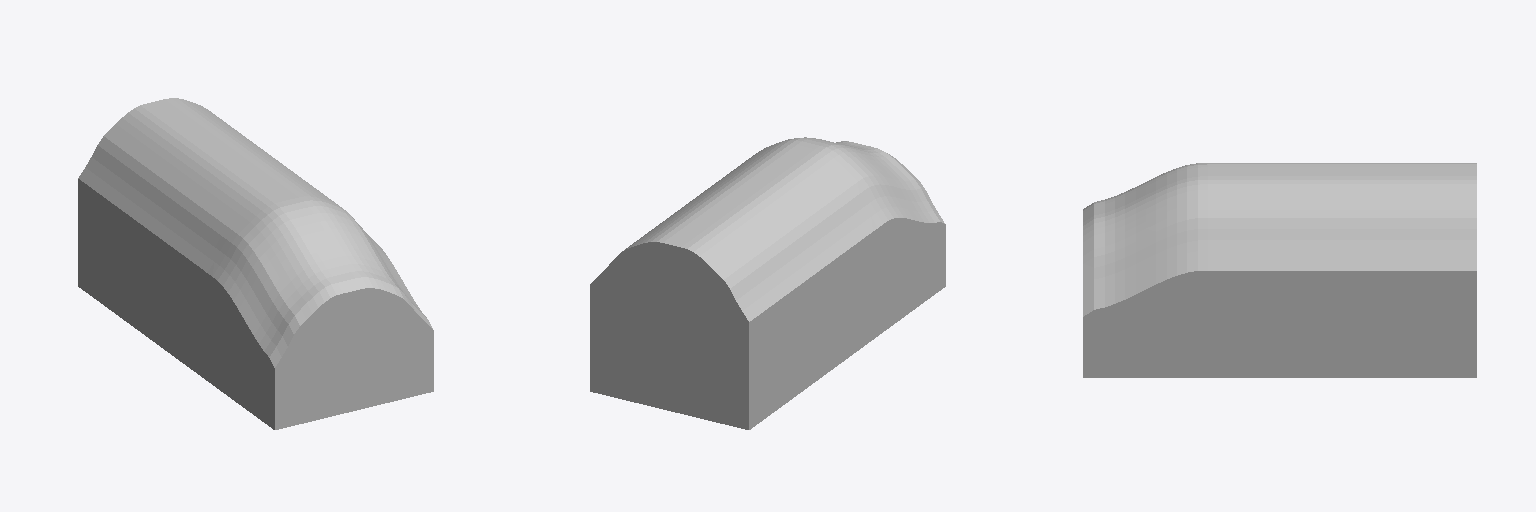
The model's file is breads.obj.
The picture shows the model from 3 angles: view 1: azimuth 30°, elevation 25°; view 2: azimuth 150°, elevation 25°; view 3: azimuth 270°, elevation 25°; orthographic projection.
Parts seen in each view (by area): view 1: Cube; view 2: Cube; view 3: Cube.
Boxes of the visible parts, x1,y1,x2,y2 form: Cube: [78, 98, 433, 429]; Cube: [590, 137, 945, 429]; Cube: [1083, 163, 1476, 377].
Bounding box in the file's own units: 1.84 × 1.84 × 3.95.